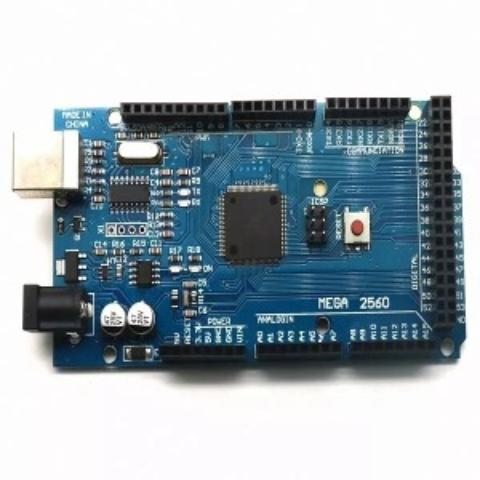Arduino-Mega: (5, 83, 474, 381)
